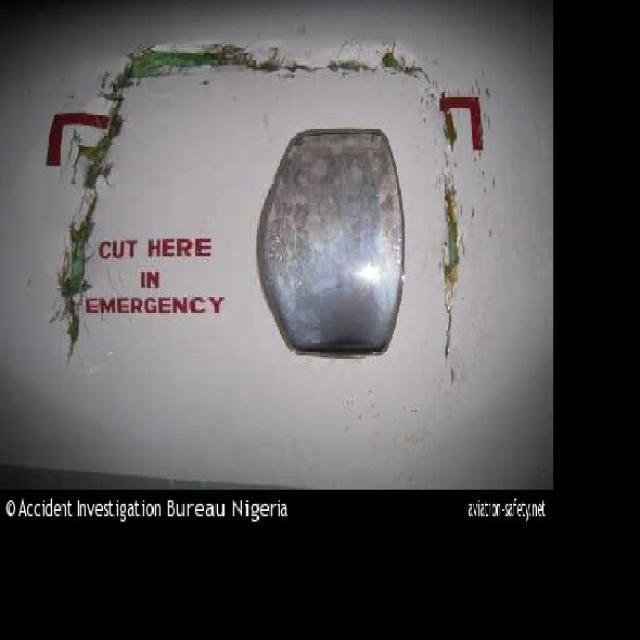crack: (51, 90, 126, 363), (106, 48, 435, 86), (444, 180, 459, 362)
